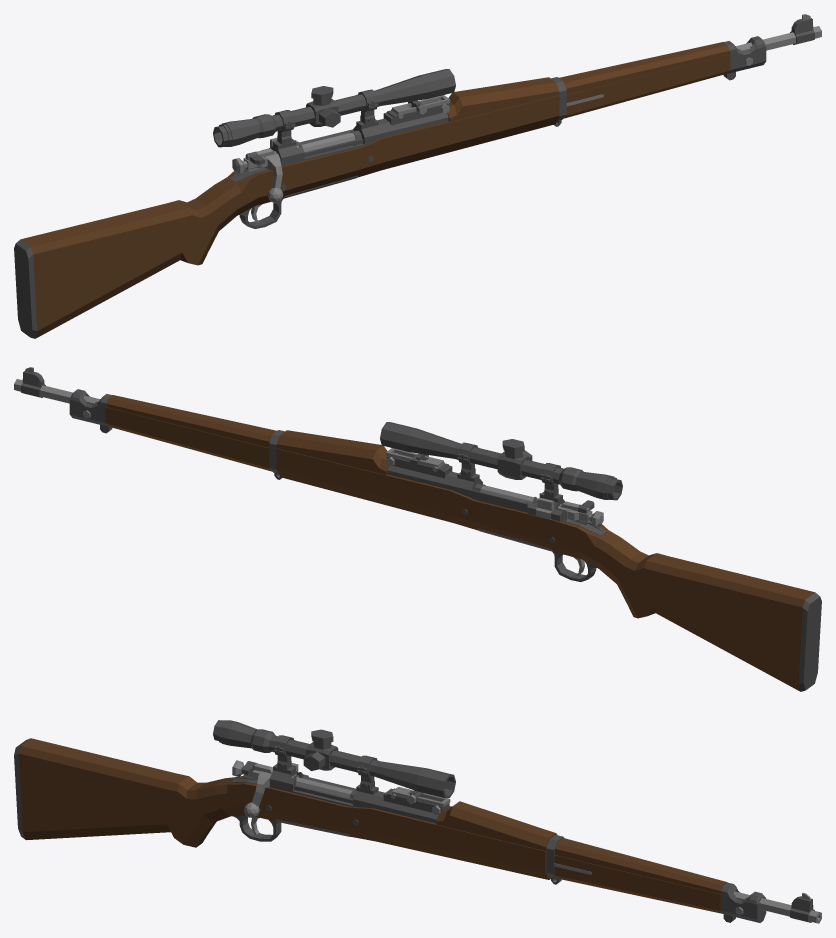
The model's file is Springfield M1903.fbx.
The picture shows the model from 3 angles, top to bottom: view 1: azimuth 30°, elevation 25°; view 2: azimuth 150°, elevation 25°; view 3: azimuth 330°, elevation 25°; orthographic projection.
Parts seen in each view (by area): view 1: Body, Scope, Bolt; view 2: Body, Scope, Bolt; view 3: Body, Scope, Bolt.
Boxes of the visible parts, bbox=[...] form: Body: bbox=[14, 14, 821, 338]; Scope: bbox=[213, 69, 455, 147]; Bolt: bbox=[232, 132, 355, 202]; Body: bbox=[14, 367, 821, 691]; Scope: bbox=[380, 422, 622, 500]; Bolt: bbox=[480, 485, 603, 527]; Body: bbox=[14, 738, 821, 923]; Scope: bbox=[213, 720, 455, 798]; Bolt: bbox=[232, 760, 352, 817].
Size of the model in its own units: 139 by 29.01 by 7.35.
Materials: 1 (1 with a texture image).
